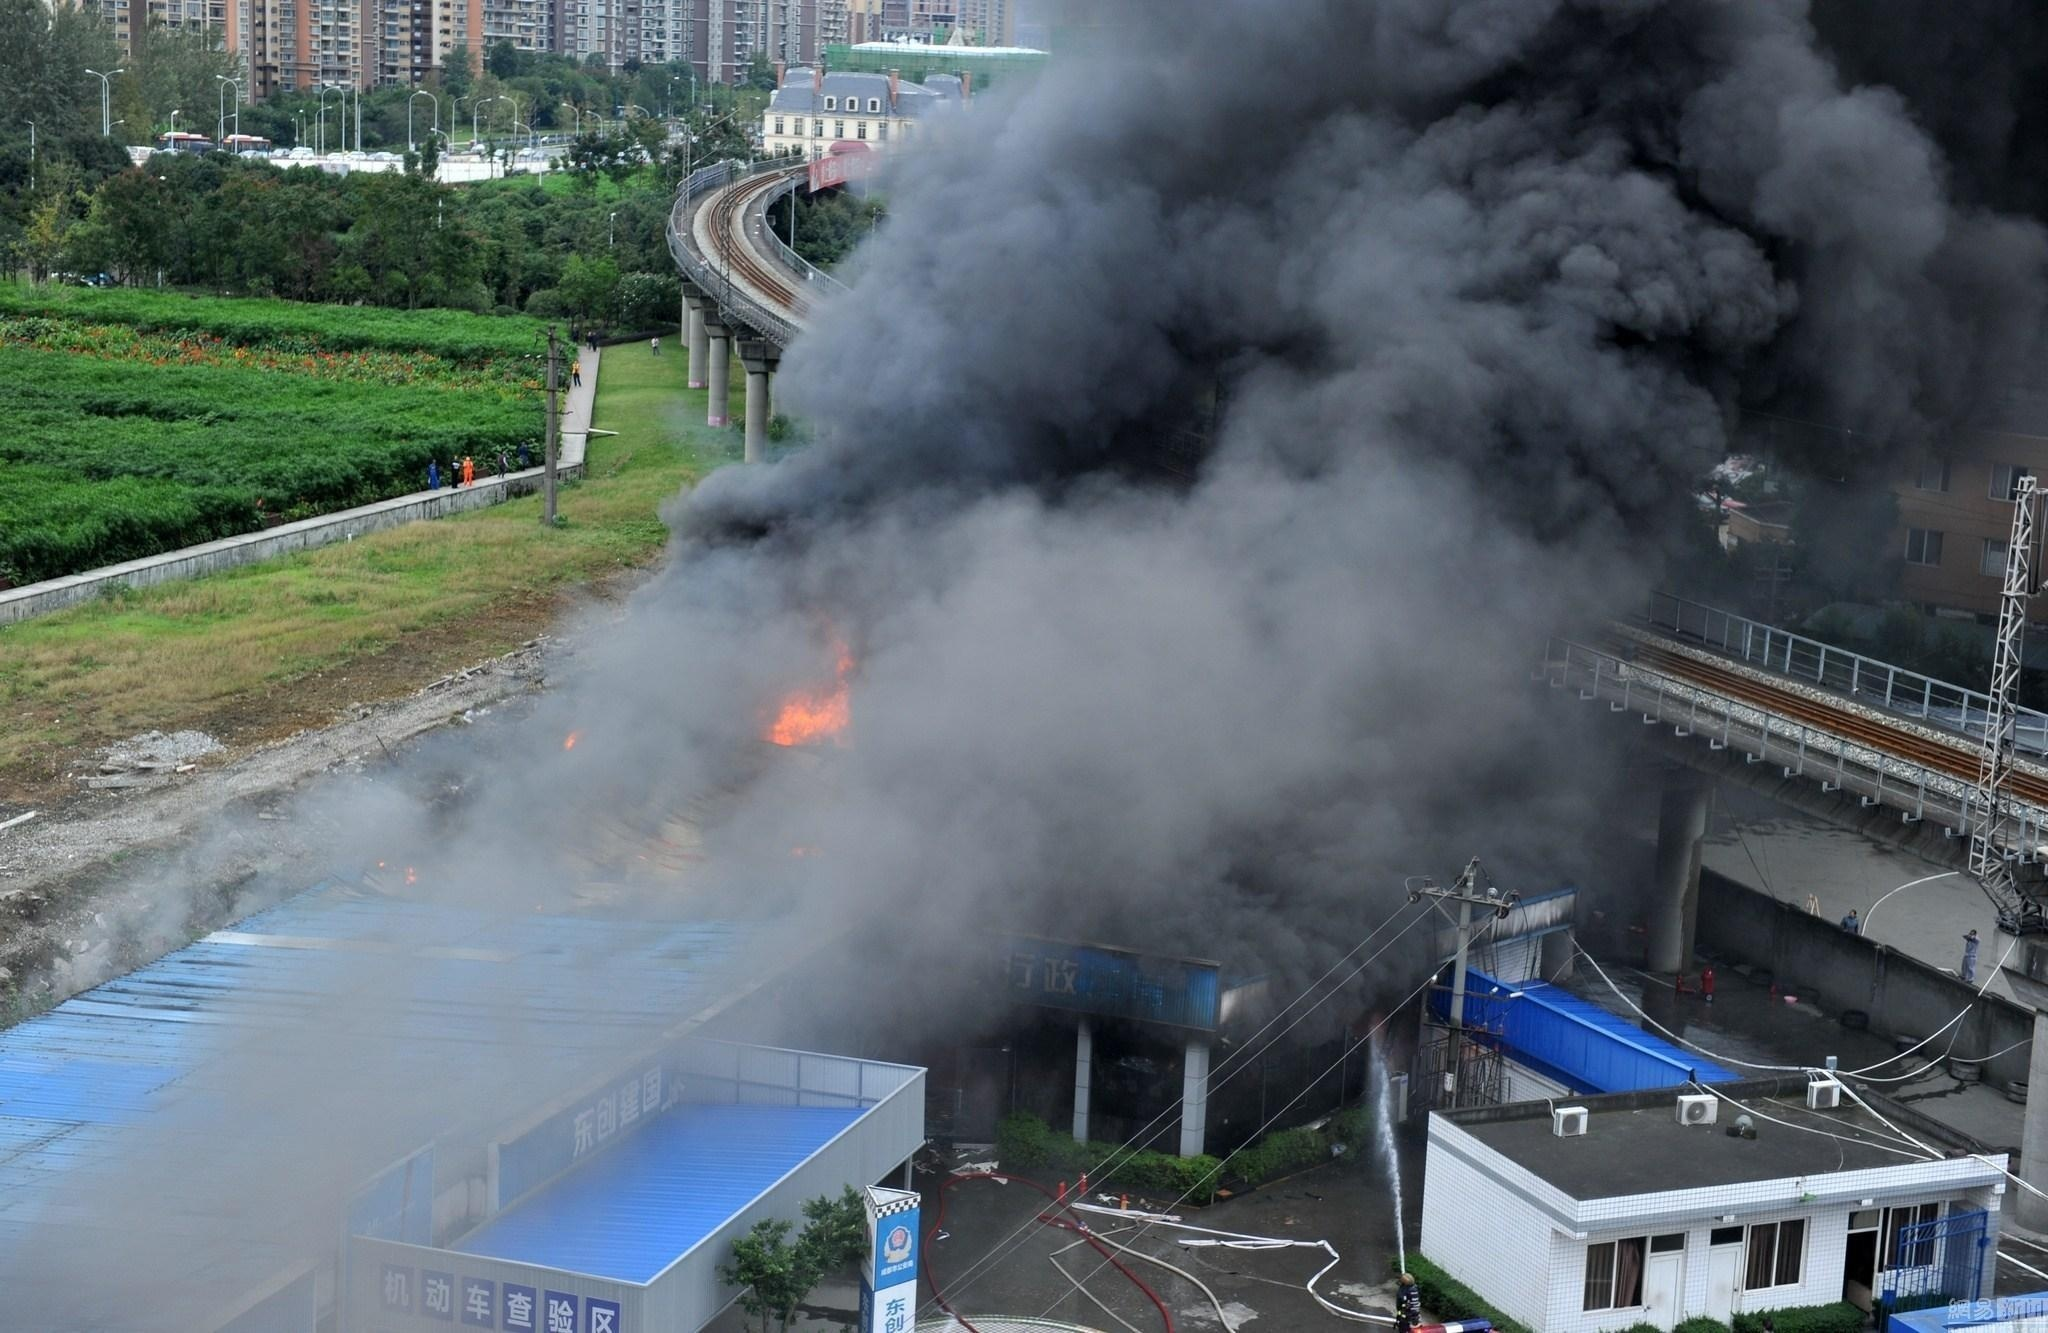fire: (763, 646, 858, 749)
